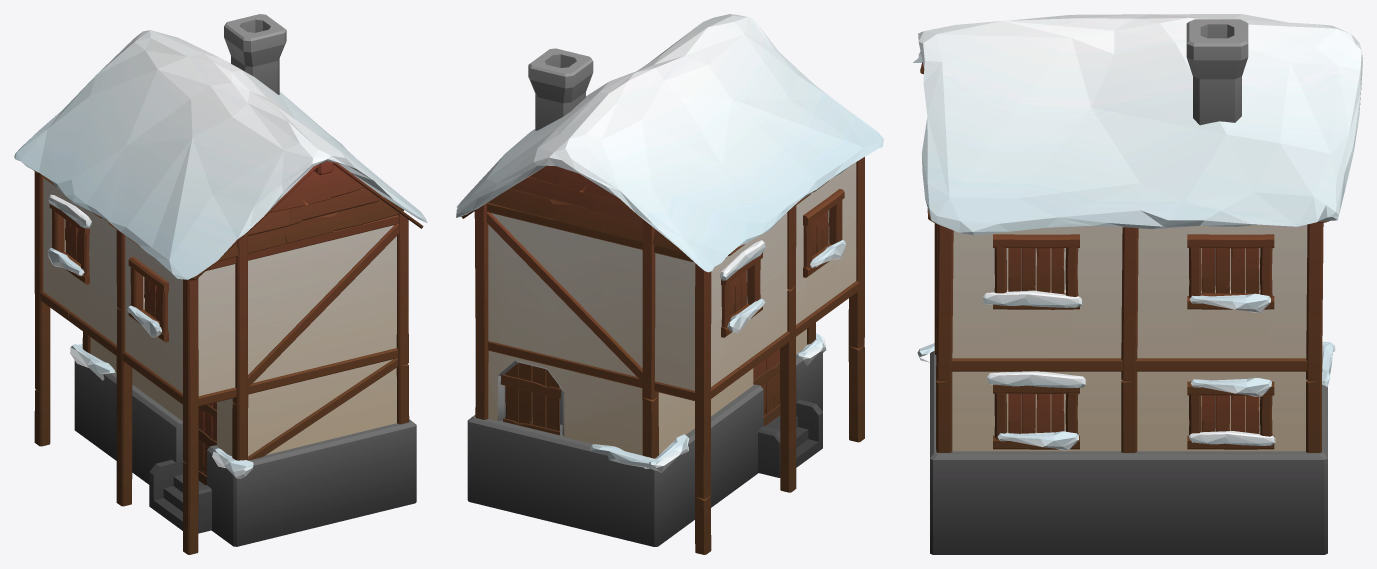
The picture shows the model from 3 angles, left to right: view 1: azimuth 30°, elevation 25°; view 2: azimuth 150°, elevation 25°; view 3: azimuth 270°, elevation 25°; orthographic projection. The views are drawn at different scales.
Visible parts, largest first — view 1: SnowyTownHouse2; view 2: SnowyTownHouse2; view 3: SnowyTownHouse2.
Part boxes in pixels (left/top/right/bottom): SnowyTownHouse2: left=14, top=14, right=427, bottom=554; SnowyTownHouse2: left=456, top=14, right=883, bottom=554; SnowyTownHouse2: left=913, top=14, right=1362, bottom=554.
Size of the model in its own units: 409 by 600 by 494.
Materials: 1 (1 with a texture image).
